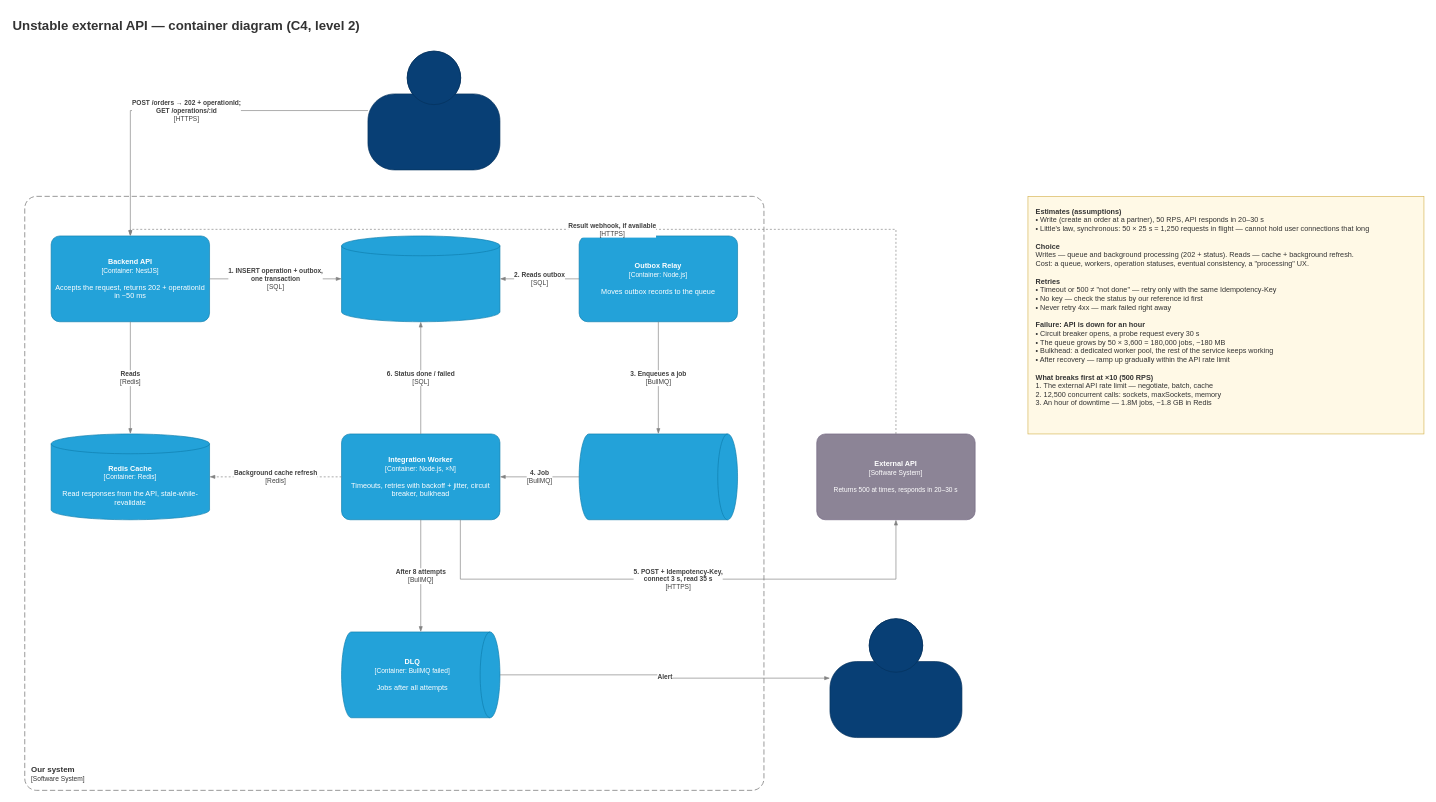
Image size: 1436x802. Some labels were removed from this diagram. The centre of each missing label's shape, as x and y in pixels:
"Job queue [Container: BullMQ on Redis] Jobs that call the external API" belongs at (x=658, y=476).
"On-call engineer [Person] Alerts, manual DLQ triage" belongs at (x=895, y=678).
"PostgreSQL [Container: PostgreSQL] operations (status, idempotencyKey) + outbox" belongs at (x=420, y=278).
"User [Person] Browser or mobile app" belongs at (x=433, y=110).
